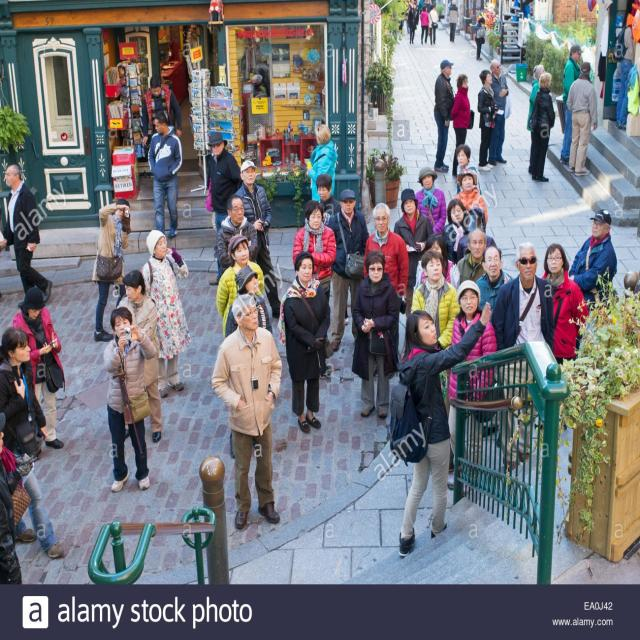body: (387, 300, 492, 558), (209, 292, 285, 530), (0, 324, 66, 559), (493, 240, 557, 472), (100, 26, 286, 104), (444, 277, 508, 498), (276, 247, 336, 433), (102, 305, 158, 493), (534, 242, 588, 432), (224, 264, 274, 459), (11, 285, 66, 450), (137, 227, 190, 398), (115, 268, 164, 444), (350, 247, 400, 418), (0, 162, 54, 310), (233, 158, 282, 318), (324, 188, 371, 351), (362, 202, 410, 356), (568, 208, 618, 349), (0, 410, 34, 585), (207, 130, 244, 286), (92, 198, 132, 342), (214, 233, 266, 340), (393, 187, 435, 319), (409, 248, 461, 351), (146, 112, 184, 240), (292, 199, 338, 304), (565, 60, 599, 177), (204, 133, 242, 235), (248, 105, 304, 173), (216, 192, 260, 273), (412, 233, 462, 298), (527, 71, 556, 183), (475, 244, 516, 323), (141, 74, 183, 150), (613, 12, 639, 130), (560, 42, 584, 166), (433, 58, 458, 175), (449, 73, 476, 177), (486, 57, 511, 167), (456, 206, 499, 265), (306, 123, 338, 202), (413, 165, 448, 237), (526, 63, 548, 176), (476, 68, 499, 173), (452, 166, 489, 226), (387, 0, 452, 33), (456, 226, 488, 286), (442, 197, 469, 264), (454, 144, 483, 198), (315, 173, 342, 226), (445, 0, 460, 43), (406, 1, 419, 45), (474, 15, 486, 60), (508, 42, 536, 61), (427, 3, 438, 45), (419, 5, 430, 45), (0, 221, 5, 299)
